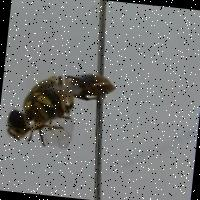Oriental-fruit-fly: (0, 51, 127, 171)
